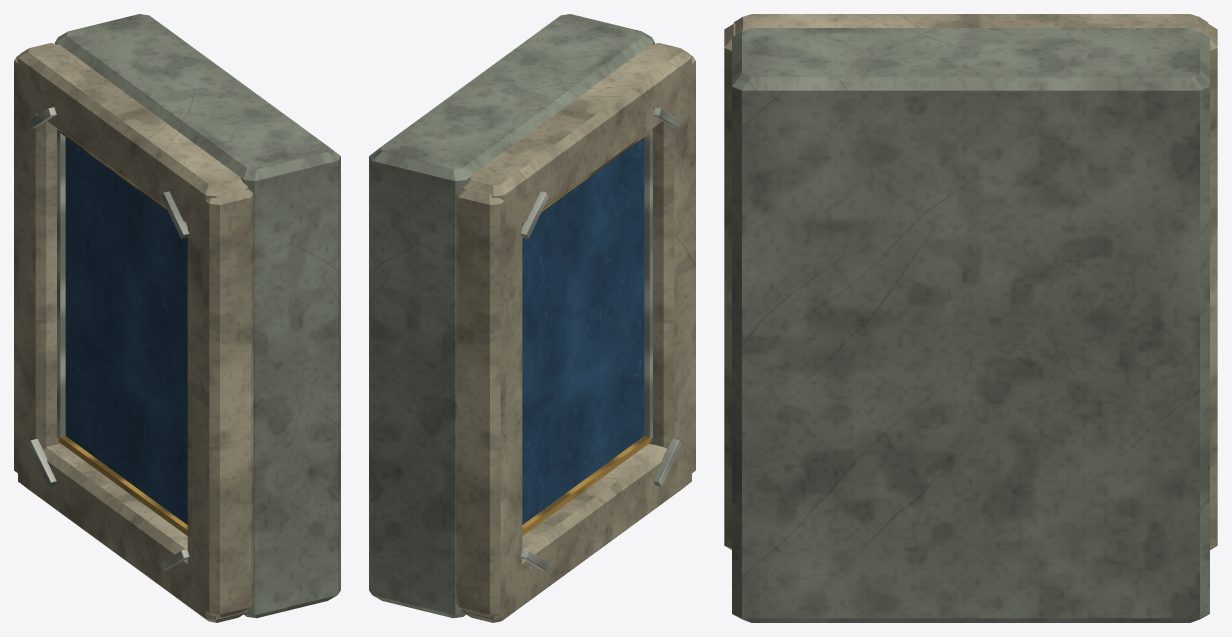
File: b09_coin_stele.fbx
3 views of the same model, side by side, from view 1: azimuth 30°, elevation 25°; view 2: azimuth 150°, elevation 25°; view 3: azimuth 270°, elevation 25° (orthographic). The views are drawn at different scales.
Parts seen in each view (by area): view 1: b09_coin_stele; view 2: b09_coin_stele; view 3: b09_coin_stele.
Part boxes in pixels (<box>): b09_coin_stele: <box>14,14,340,622</box>; b09_coin_stele: <box>369,14,695,622</box>; b09_coin_stele: <box>724,14,1217,622</box>.
Size of the model in its own units: 6365 by 15900 by 19400.
